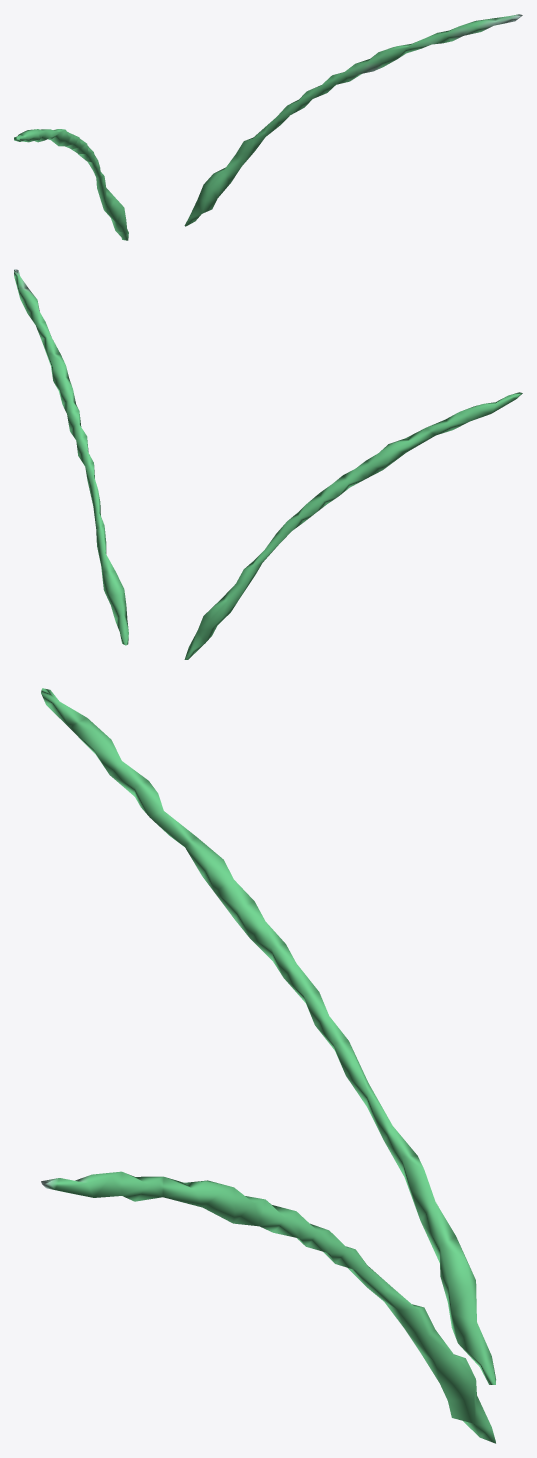
Rendered from Ant-COLOR_2.fbx.
The picture shows the model from 3 angles, top to bottom: view 1: azimuth 30°, elevation 25°; view 2: azimuth 150°, elevation 25°; view 3: azimuth 270°, elevation 25°; orthographic projection. The views are drawn at different scales.
Parts seen in each view (by area): view 1: PM3D_Sphereinder3D1_2; view 2: PM3D_Sphereinder3D1_2; view 3: PM3D_Sphereinder3D1_2.
Boxes of the visible parts, <box> form: PM3D_Sphereinder3D1_2: <box>14,14,522,240</box>; PM3D_Sphereinder3D1_2: <box>14,269,522,659</box>; PM3D_Sphereinder3D1_2: <box>41,688,496,1443</box>.
Bounding box in the file's own units: 2.16 × 0.9681 × 0.837.
